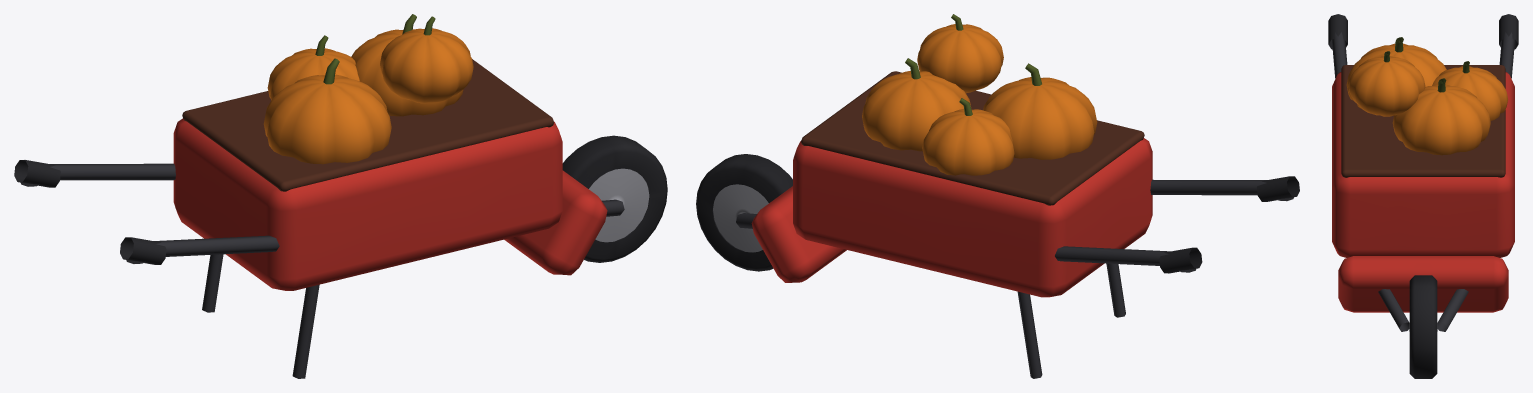
The model's file is furn_wheelbarrow.glb.
3 renders of one model, left to right at view 1: azimuth 30°, elevation 25°; view 2: azimuth 150°, elevation 25°; view 3: azimuth 270°, elevation 25°, orthographic. The views are drawn at different scales.
Parts seen in each view (by area): view 1: furn_wheelbarrow_main; view 2: furn_wheelbarrow_main; view 3: furn_wheelbarrow_main.
Part boxes in pixels (x1,y1,x2,y2): furn_wheelbarrow_main: [14, 14, 667, 378]; furn_wheelbarrow_main: [696, 14, 1299, 378]; furn_wheelbarrow_main: [1328, 14, 1518, 378].
Size of the model in its own units: 1.81 by 0.8931 by 0.624.
